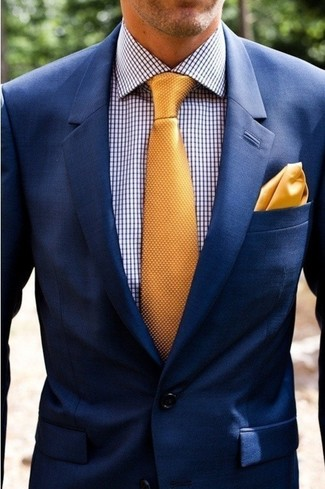squared: (108, 17, 229, 311)
tie: (138, 70, 210, 362)
